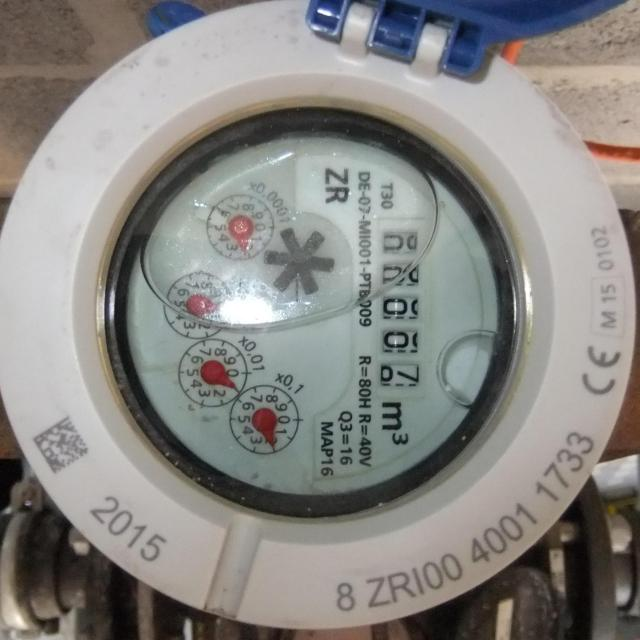gaz_meter: (110, 99, 516, 504)
indication: (374, 216, 428, 401)
